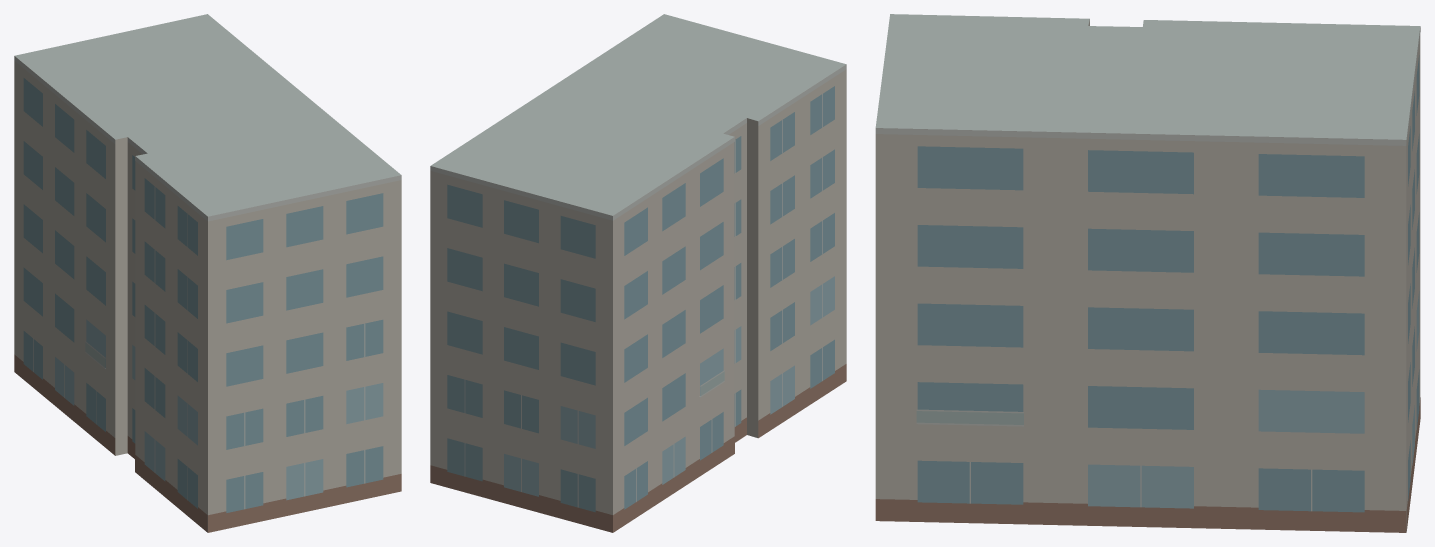
Rendered from survey-upis-32653967.glb.
The picture shows the model from 3 angles, left to right: view 1: azimuth 30°, elevation 25°; view 2: azimuth 150°, elevation 25°; view 3: azimuth 270°, elevation 25°; orthographic projection. The views are drawn at different scales.
Visible parts, largest first — view 1: survey-upis-32653967.tmp; view 2: survey-upis-32653967.tmp; view 3: survey-upis-32653967.tmp.
Boxes of the visible parts, left/top/right/bottom form: survey-upis-32653967.tmp: left=14, top=14, right=401, bottom=532; survey-upis-32653967.tmp: left=430, top=14, right=846, bottom=532; survey-upis-32653967.tmp: left=875, top=14, right=1420, bottom=532.
Bounding box in the file's own units: 10.93 × 15.9 × 19.99.
